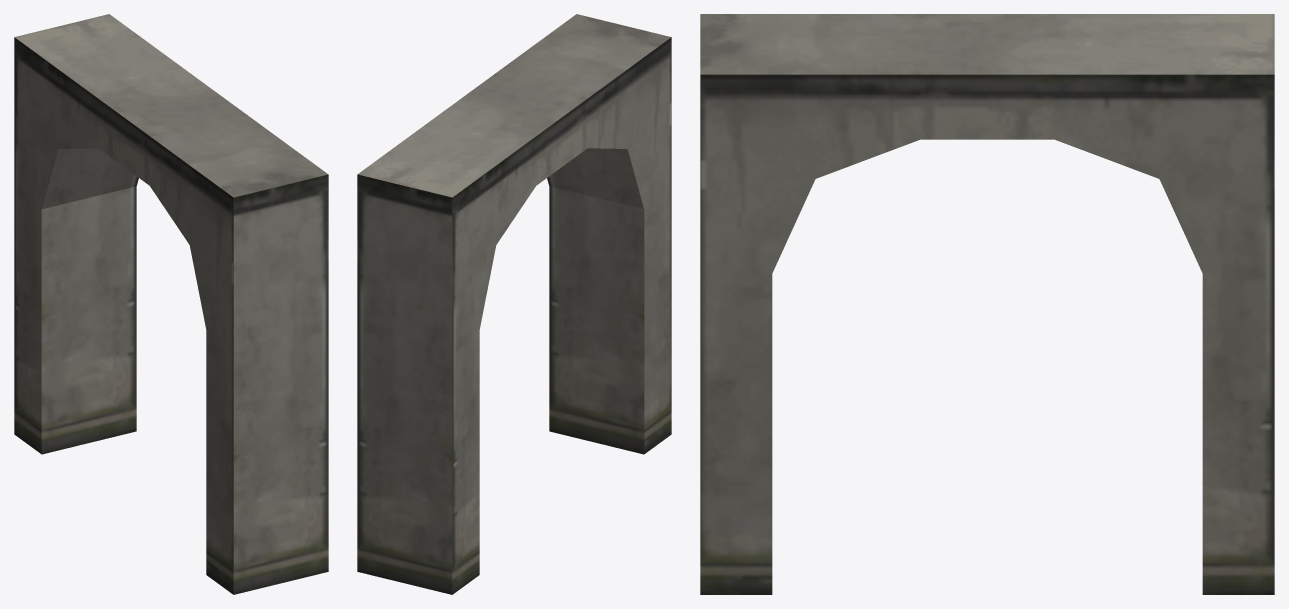
Rendered from SM_WALL_S_05.fbx.
3 renders of one model, left to right at view 1: azimuth 30°, elevation 25°; view 2: azimuth 150°, elevation 25°; view 3: azimuth 270°, elevation 25°, orthographic. The views are drawn at different scales.
Visible parts, largest first — view 1: SM_WALL_S_05; view 2: SM_WALL_S_05; view 3: SM_WALL_S_05.
Boxes of the visible parts, x1,y1,x2,y2 form: SM_WALL_S_05: [14, 14, 328, 594]; SM_WALL_S_05: [357, 14, 671, 594]; SM_WALL_S_05: [700, 14, 1274, 594].
Size of the model in its own units: 1 by 4 by 4.
